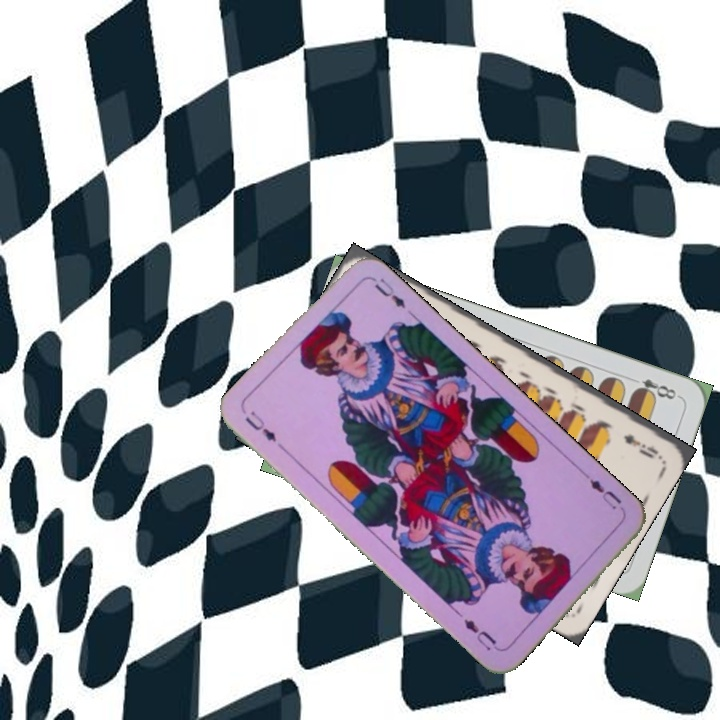E8: (630, 374, 682, 403)
E9: (619, 430, 661, 461)
EU: (580, 469, 625, 512), (240, 407, 279, 445)
